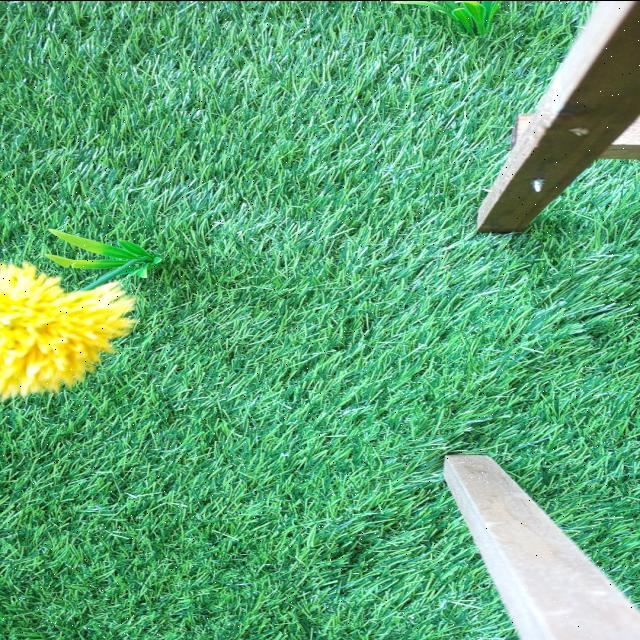base: (45, 228, 164, 282)
flower: (0, 270, 132, 400)
